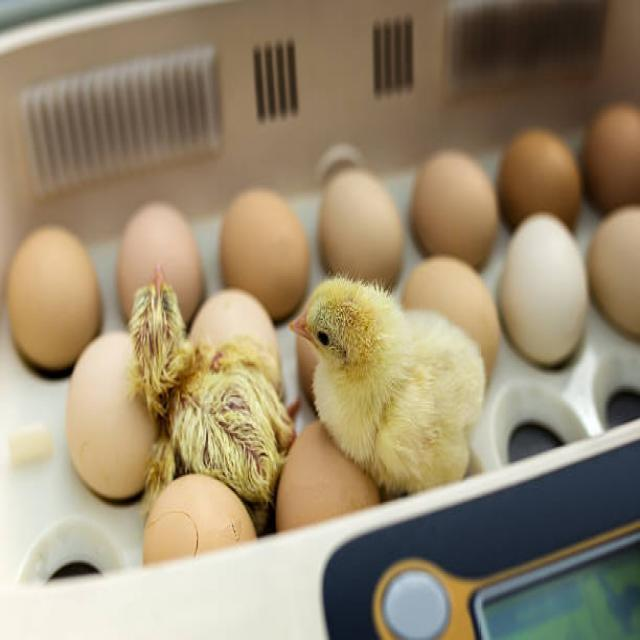Healthy: (287, 271, 492, 495)
Unhealthy: (122, 261, 297, 510)
